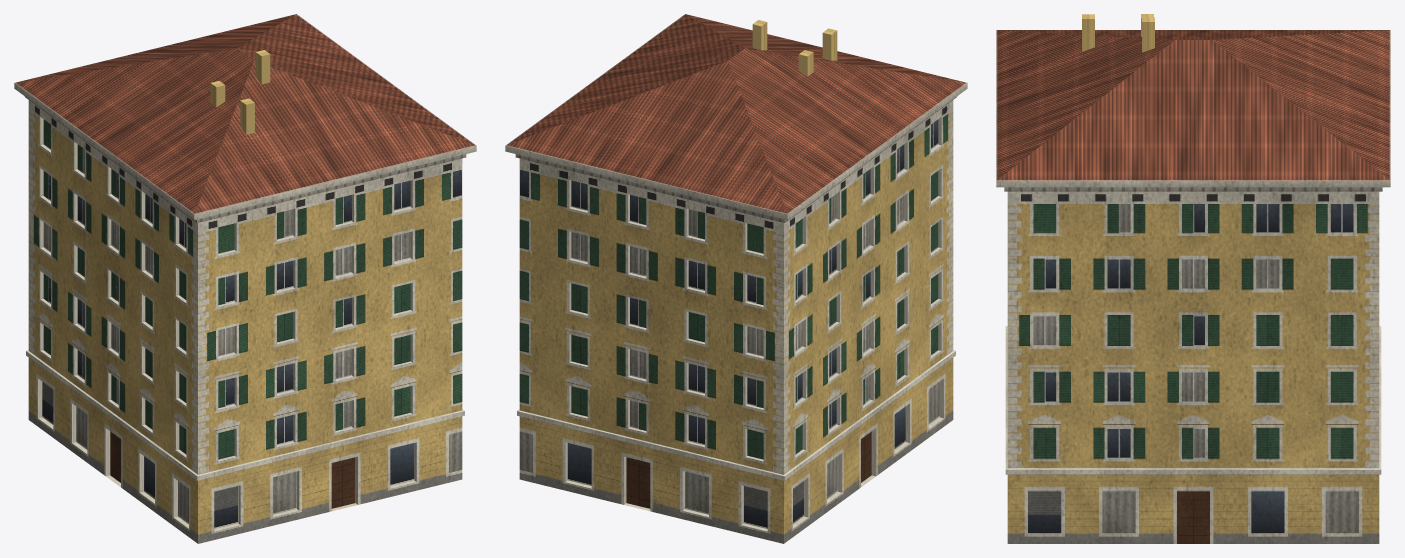
File: SM_Fondale_Palazzo_A.fbx
3 renders of one model, left to right at view 1: azimuth 30°, elevation 25°; view 2: azimuth 150°, elevation 25°; view 3: azimuth 270°, elevation 25°, orthographic. The views are drawn at different scales.
Visible parts, largest first — view 1: SM_Fondale_Palazzo_A; view 2: SM_Fondale_Palazzo_A; view 3: SM_Fondale_Palazzo_A.
Boxes of the visible parts, x1,y1,x2,y2 form: SM_Fondale_Palazzo_A: [14, 14, 476, 543]; SM_Fondale_Palazzo_A: [505, 14, 967, 543]; SM_Fondale_Palazzo_A: [996, 14, 1390, 543].
Size of the model in its own units: 1924 by 2124 by 2686.
1 material, 1 textured.
